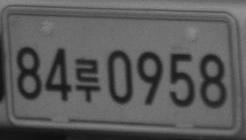0: (107, 49, 133, 105)
4: (44, 47, 72, 101)
5: (168, 52, 196, 107)
8: (199, 52, 228, 109), (15, 45, 42, 100)
9: (136, 50, 163, 105)
루: (75, 57, 101, 102)
